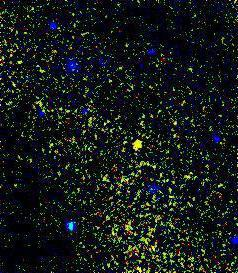star: (119, 129, 149, 159)
